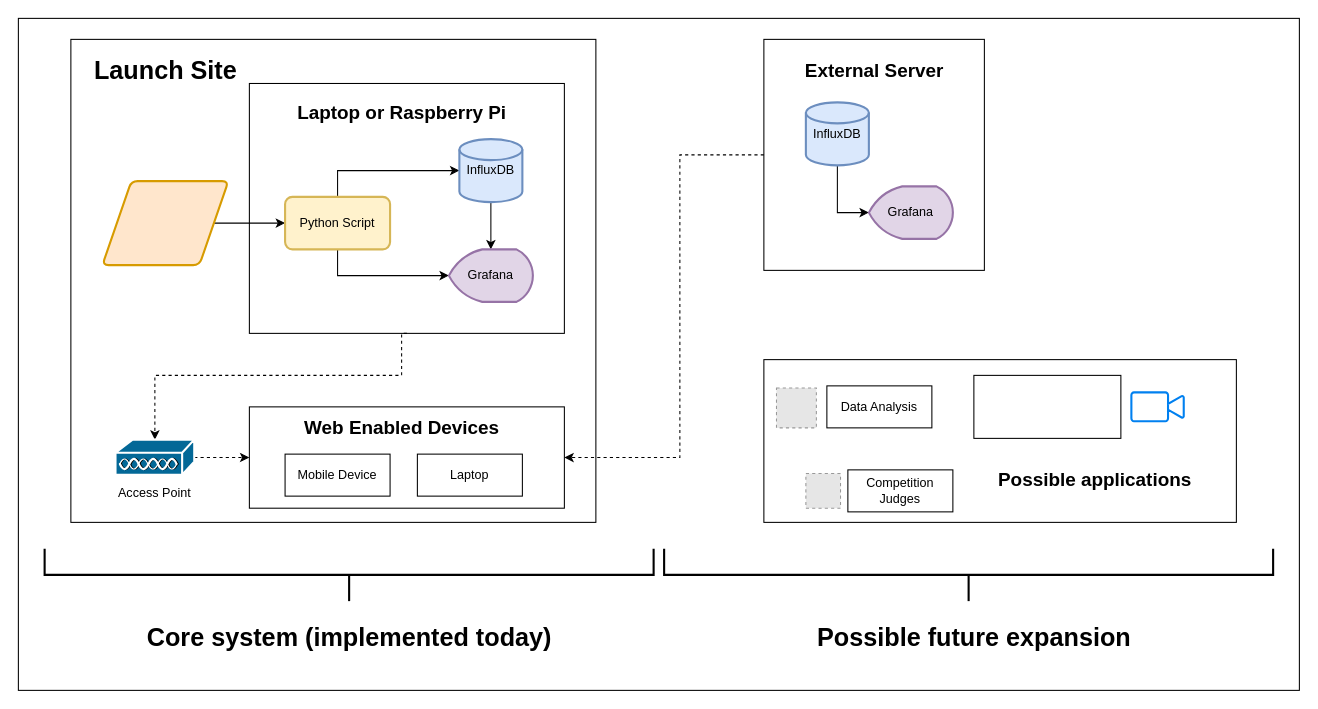
This 1318x709 diagram has some shape labels left out. Grey dashed boxes stand in for pictures. Here are the shapes that lost their labels. From the top down, the box of each, then its label:
(101, 180, 229, 266): Arduino outputs Line Protocol over Serial port
(973, 374, 1121, 438): Live video stream of launch with telemetry overlay
